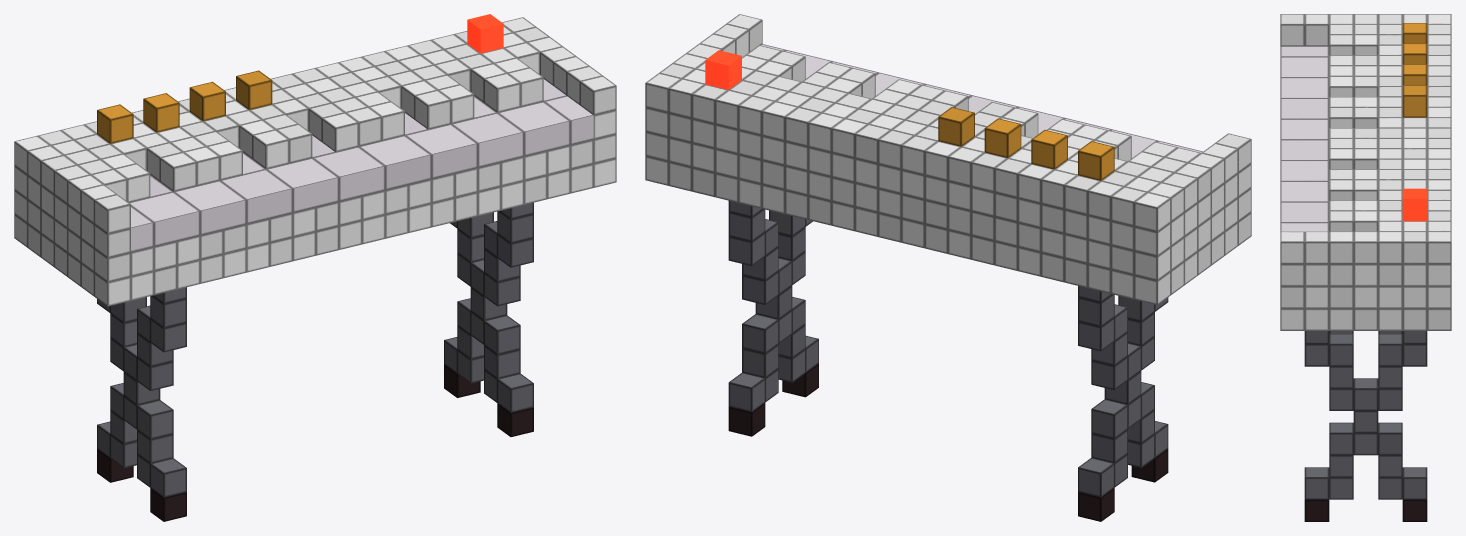
File: electric_piano.glb
3 views of the same model, side by side, from view 1: azimuth 30°, elevation 25°; view 2: azimuth 150°, elevation 25°; view 3: azimuth 270°, elevation 25° (orthographic). The views are drawn at different scales.
Visible parts, largest first — view 1: electric_piano; view 2: electric_piano; view 3: electric_piano.
Boxes of the visible parts, bbox=[...] form: electric_piano: bbox=[14, 14, 616, 521]; electric_piano: bbox=[645, 14, 1251, 521]; electric_piano: bbox=[1280, 14, 1451, 521].
Bounding box in the file's own units: 1.1 × 0.75 × 0.35.
7 materials, 6 textured.
